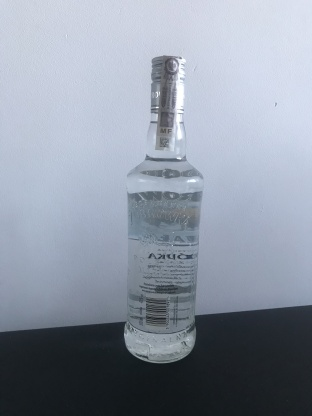nakretka: (148, 50, 188, 117)
